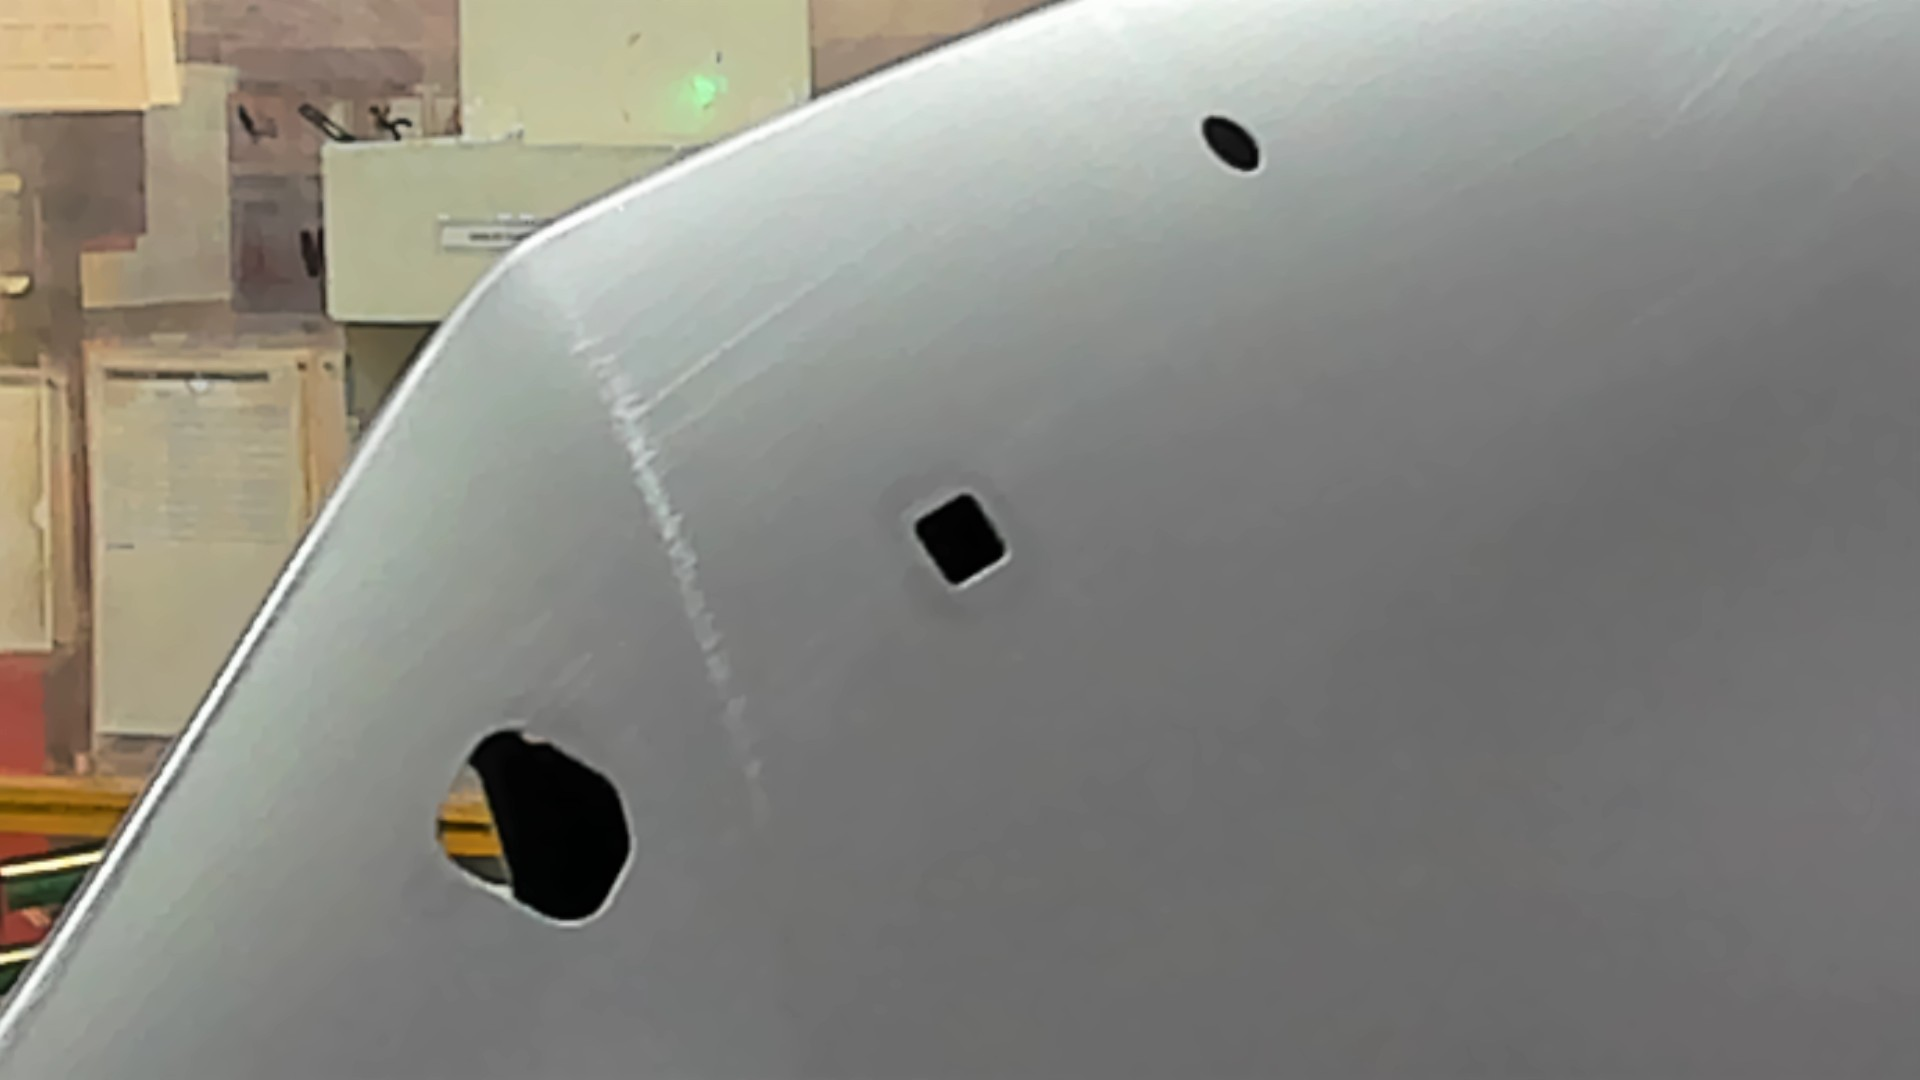chico: (1195, 104, 1288, 195)
grande: (411, 713, 663, 945)
mediano: (886, 483, 1065, 608)
